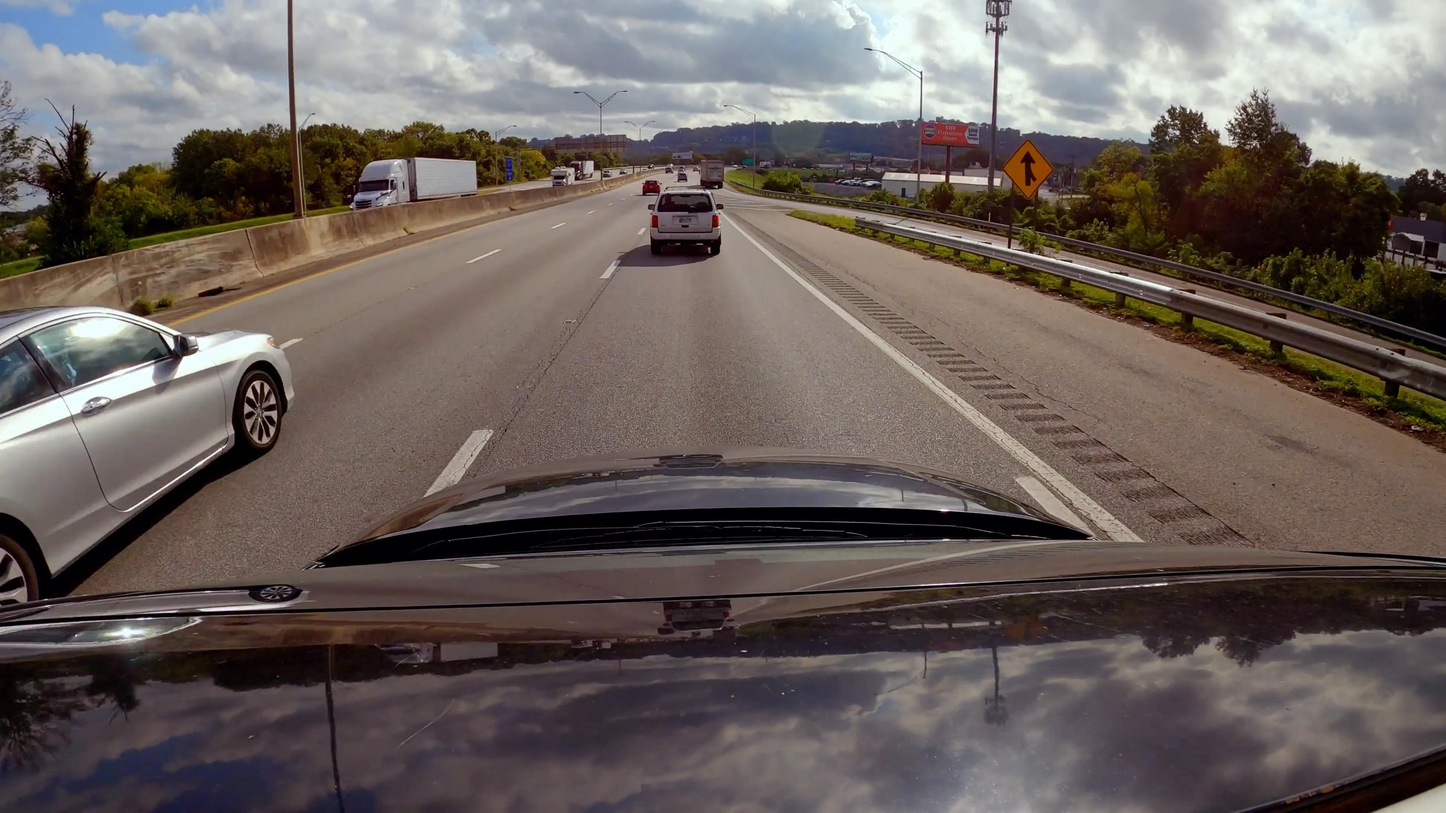dry: (295, 174, 1446, 558)
